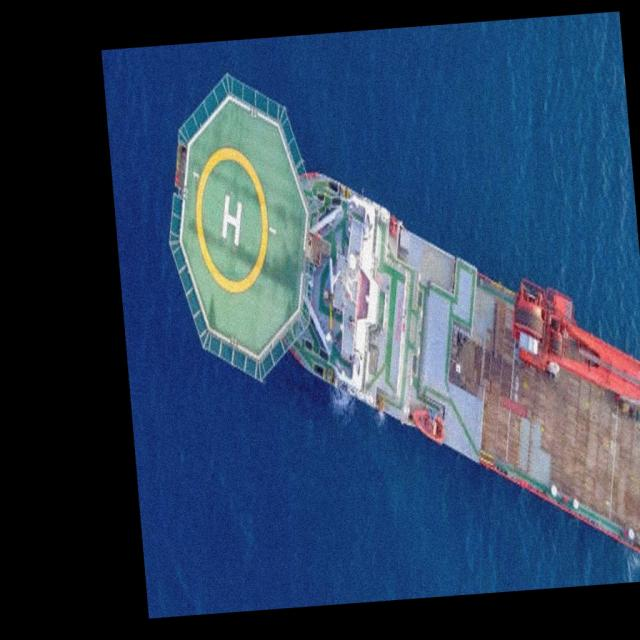helipad: (190, 142, 272, 296)
